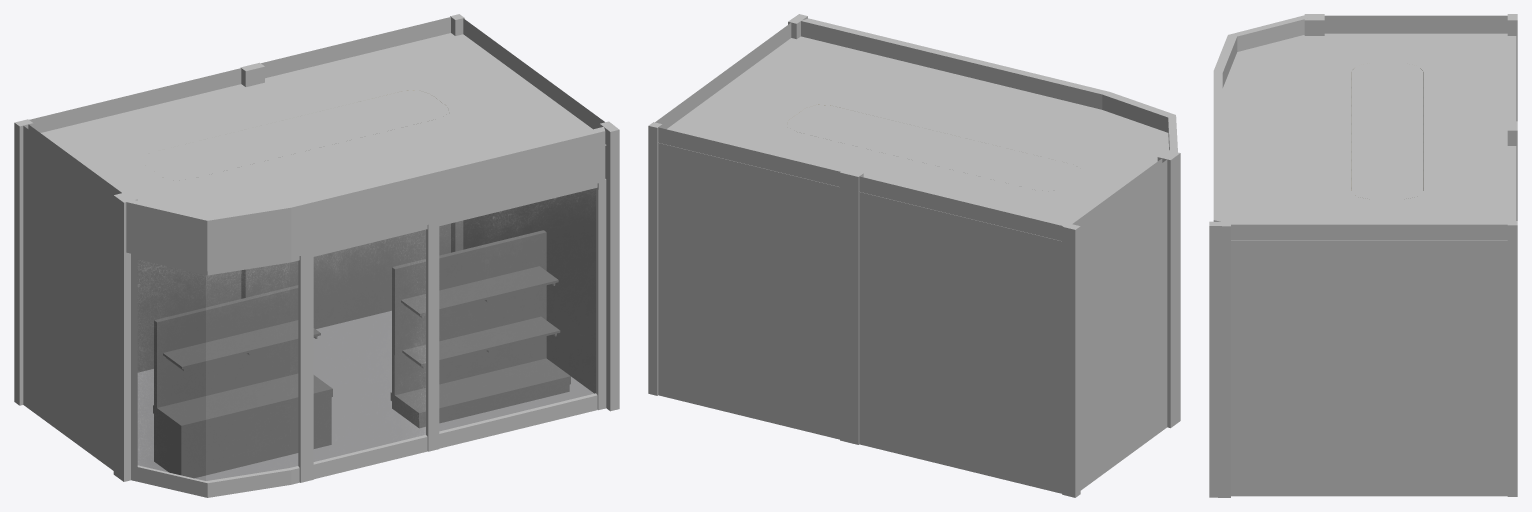
File: shop_25b.fbx
3 views of the same model, side by side, from view 1: azimuth 30°, elevation 25°; view 2: azimuth 150°, elevation 25°; view 3: azimuth 270°, elevation 25° (orthographic). The views are drawn at different scales.
Parts seen in each view (by area): view 1: shop_25b; view 2: shop_25b; view 3: shop_25b.
Boxes of the visible parts, box(x1,y1,x2,y2) form: shop_25b: box(14, 14, 619, 497); shop_25b: box(648, 14, 1180, 497); shop_25b: box(1209, 14, 1517, 497).
Size of the model in its own units: 5.37 by 3.2 by 3.3.
